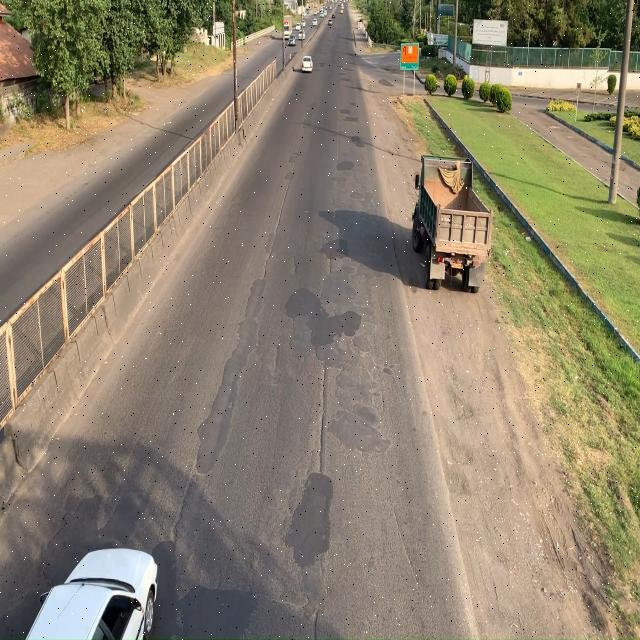Truck: (409, 152, 493, 292)
cars: (26, 545, 160, 640)
